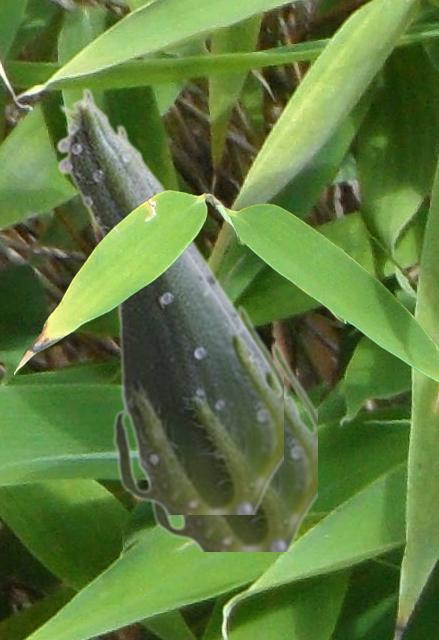okra: (55, 87, 282, 513), (115, 124, 316, 550)
